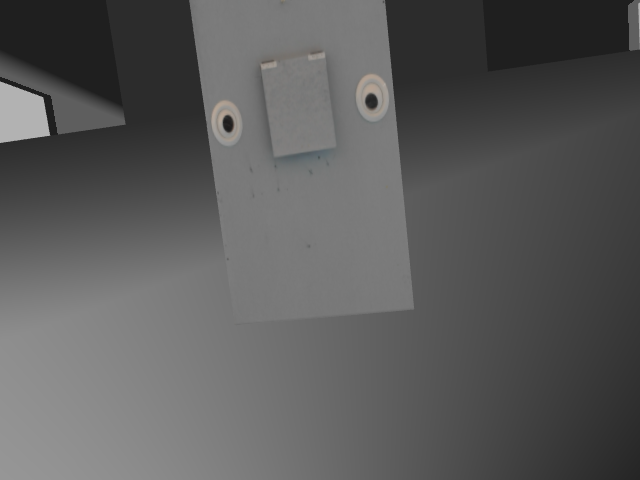facade: (204, 48, 389, 162)
